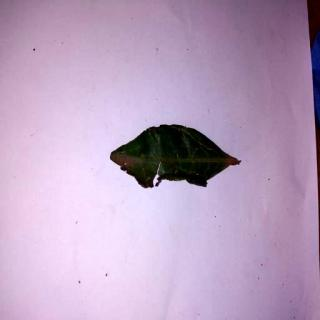Bird Eye Spot: (112, 125, 241, 189)
